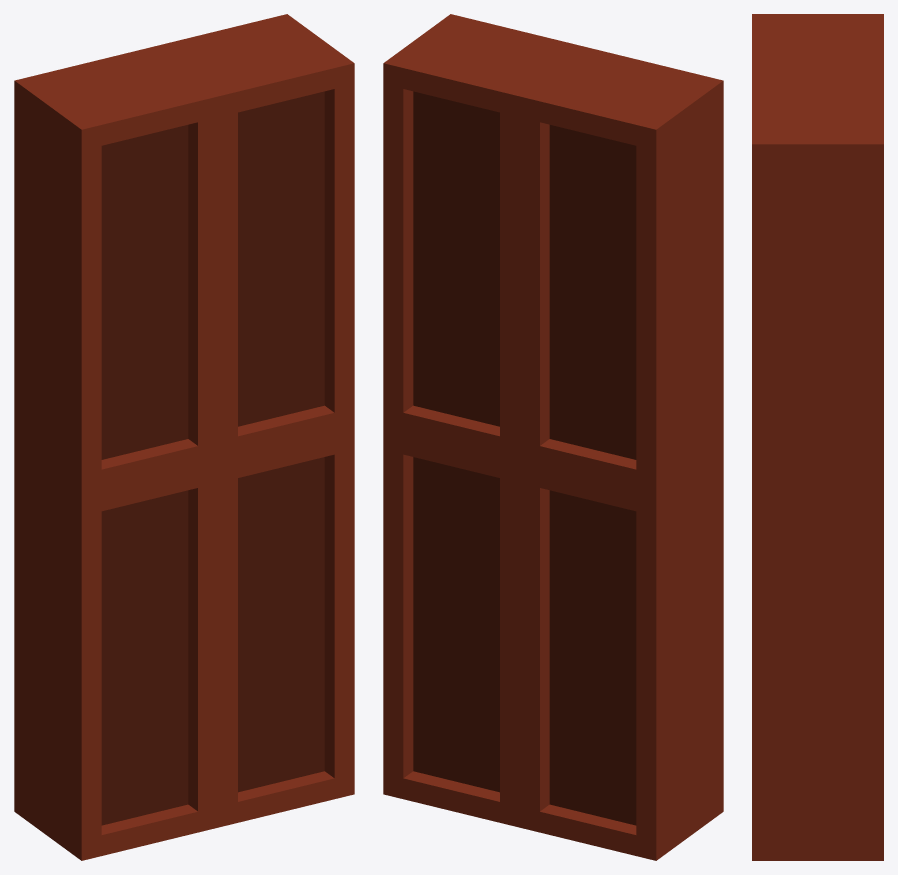
Rendered from Door.FBX.
The picture shows the model from 3 angles, left to right: view 1: azimuth 30°, elevation 25°; view 2: azimuth 150°, elevation 25°; view 3: azimuth 270°, elevation 25°; orthographic projection. The views are drawn at different scales.
Visible parts, largest first — view 1: door; view 2: door; view 3: door.
Boxes of the visible parts, <box> form: door: <box>14,14,354,860</box>; door: <box>383,14,723,860</box>; door: <box>752,14,883,860</box>.
Bounding box in the file's own units: 0.82 × 2.1 × 0.35.
